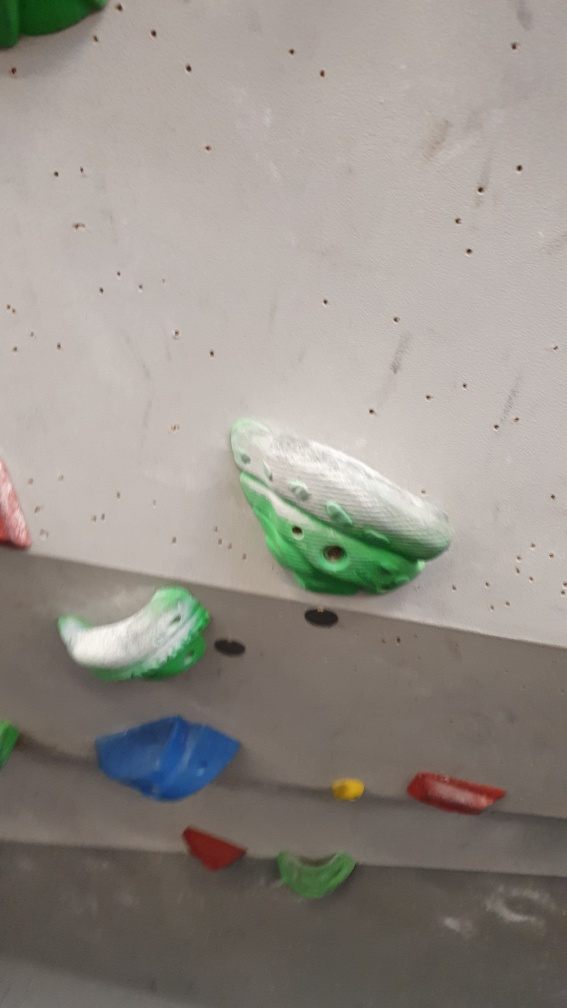Crimp: (400, 766, 511, 823)
Hand Start: (209, 625, 252, 666), (303, 601, 346, 635)
Jug: (223, 413, 458, 602), (53, 579, 216, 684), (264, 841, 365, 900)
Pinch: (90, 717, 244, 805)
